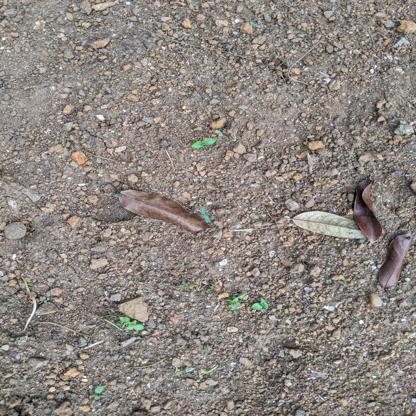weed: (222, 289, 274, 321), (115, 311, 145, 336), (188, 131, 221, 153)
